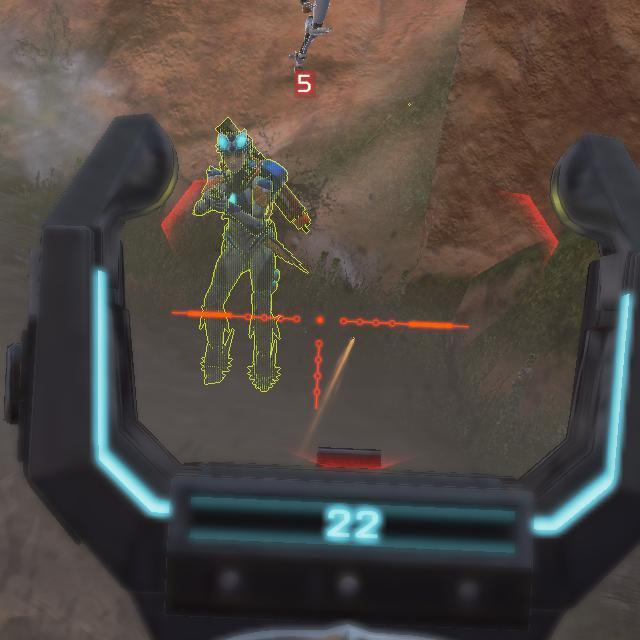avatar: (191, 116, 314, 394)
